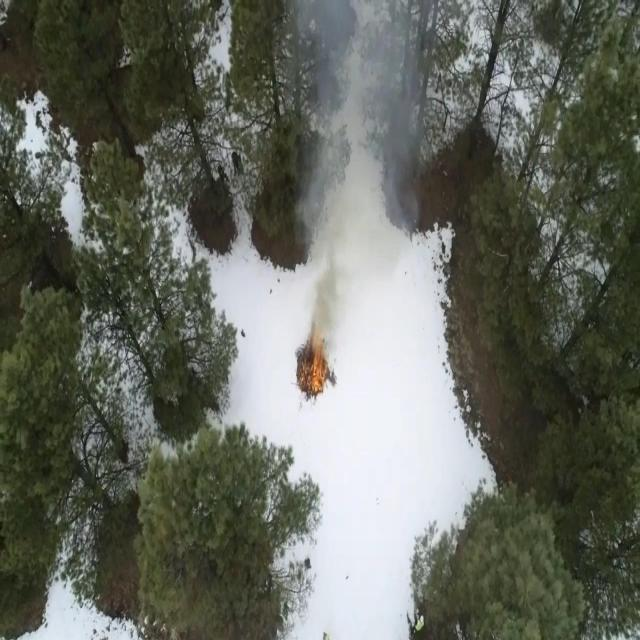Fire: (298, 345, 328, 395)
Smoke: (283, 1, 418, 345)
